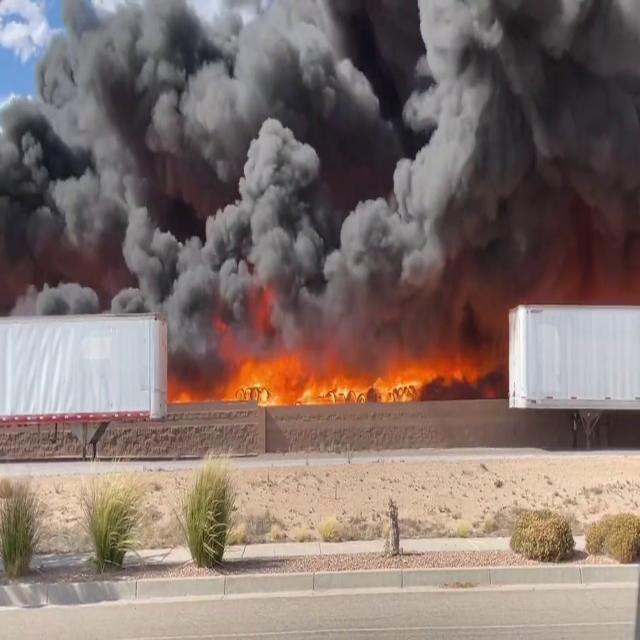Fire: (232, 338, 488, 406)
Smoke: (0, 0, 639, 339)
